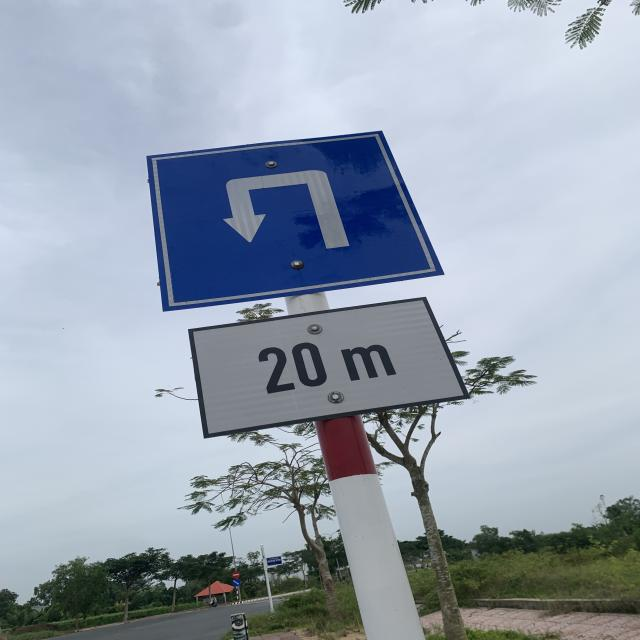Den_Giao_Thong: (147, 125, 445, 312)
